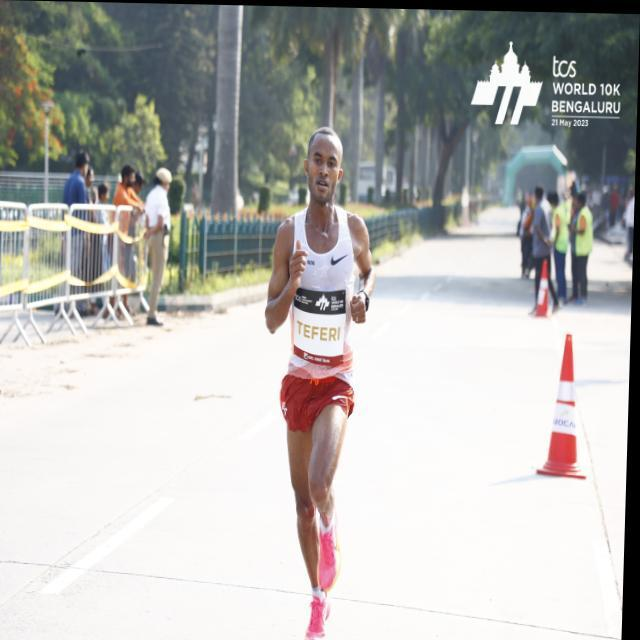dorsal: (292, 282, 350, 364)
